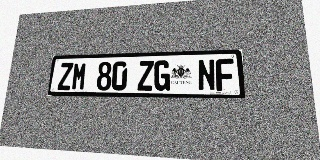0: (111, 61, 128, 90)
8: (96, 61, 112, 90)
F: (215, 58, 235, 91)
G: (154, 60, 170, 91)
M: (71, 62, 87, 90)
N: (197, 59, 216, 91)
Z: (137, 60, 154, 91), (57, 62, 73, 90)
